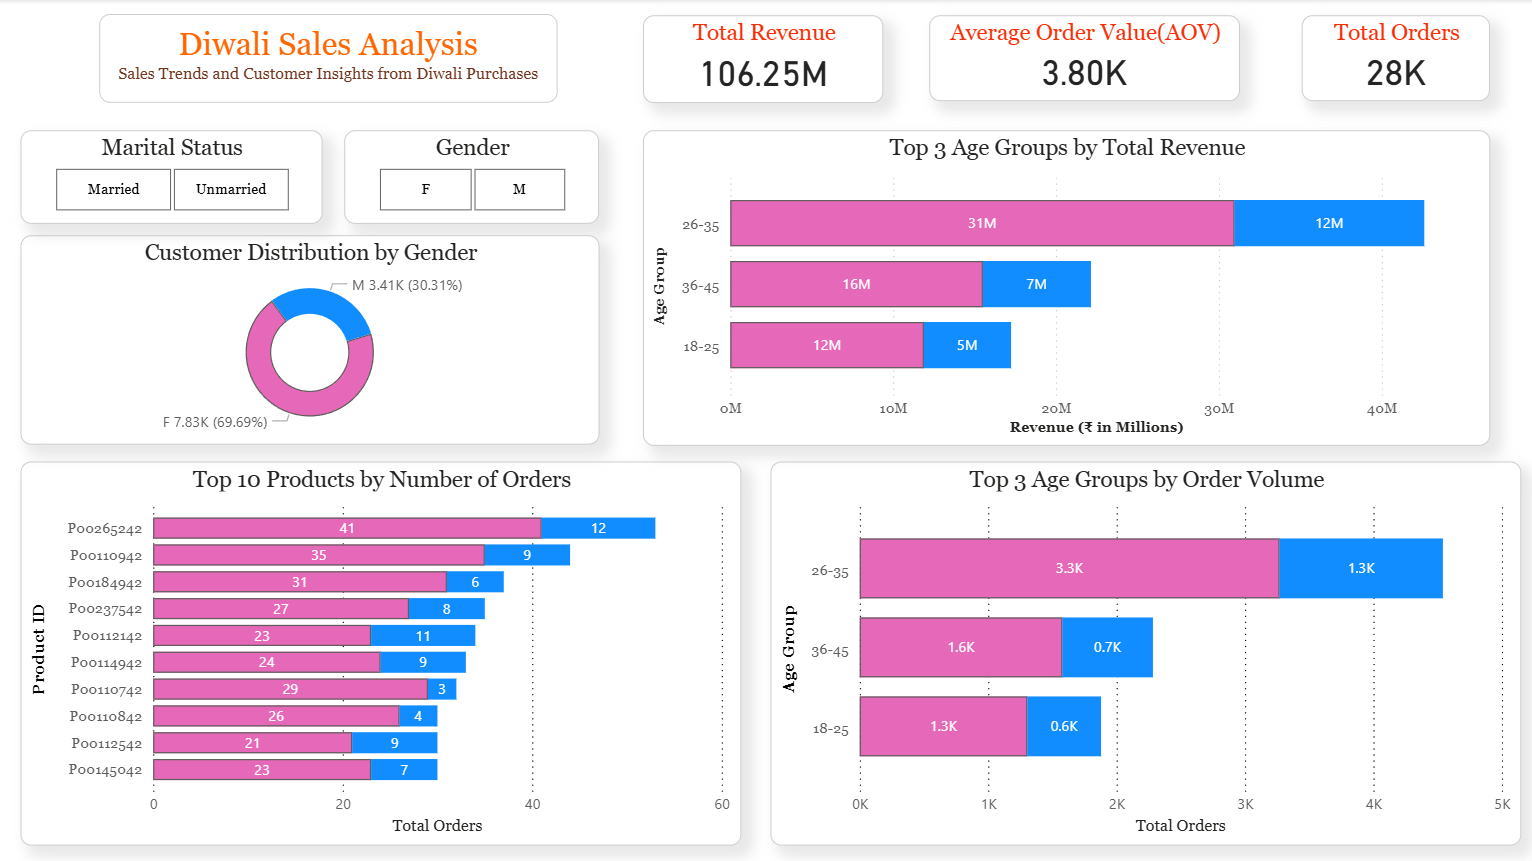

What the dashboard file says about the page in this screenshot:
{"tool":"powerbi","page":{"name":"Page 1","canvas":[1280,720],"ordinal":0},"visuals":[{"type":"textbox","box":[83.8,12.5,380,73.8],"z":0},{"type":"barChart","title":"Top 10 Products by Number of Orders","fields":{"Y":["Diwali Sales Data.Product_ID"],"Category":["Diwali Sales Data.Product_ID"],"Series":["Diwali Sales Data.Gender"]},"box":[18.8,383.8,597.5,318.8],"z":1000},{"type":"barChart","title":"Top 3 Age Groups by Order Volume","fields":{"Category":["Diwali Sales Data.Age Group"],"Y":["Diwali Sales Data.Age Group"],"Series":["Diwali Sales Data.Gender"]},"box":[640,383.8,622.5,318.8],"z":2000},{"type":"slicer","title":"Gender","fields":{"Values":["Diwali Sales Data.Gender"]},"box":[287.5,108.8,211.2,77.5],"z":3000},{"type":"donutChart","title":"Customer Distribution by Gender","fields":{"Y":["Diwali Sales Data.Gender"],"Category":["Diwali Sales Data.Gender"]},"box":[18.8,196.2,480,173.8],"z":4000},{"type":"slicer","title":"Marital Status","fields":{"Values":["Diwali Sales Data.Marital_Status"]},"box":[18.8,108.8,250,77.5],"z":5000},{"type":"card","title":"Total Revenue","fields":{"Values":["Diwali Sales Data.Total Revenue"]},"box":[535,13.5,199.5,72.8],"z":6000},{"type":"card","title":"Average Order Value(AOV)","fields":{"Values":["Diwali Sales Data.Average Order Value"]},"box":[772.2,13.5,257.4,71.4],"z":7000},{"type":"card","title":"Total Orders","fields":{"Values":["Diwali Sales Data.Total Orders"]},"box":[1081.2,13.8,156.2,71.2],"z":8000},{"type":"barChart","title":"Top 3 Age Groups by Total Revenue","fields":{"Category":["Diwali Sales Data.Age Group"],"Y":["Diwali Sales Data.Amount"],"Series":["Diwali Sales Data.Gender"]},"box":[535,109.2,702.1,261.4],"z":9000}]}

Visuals, with their boxes in screenshot pixels (x1, y1, x2, y2), scaled from the page's 1280x720 canvas onto the 1532x861 screenshot:
textbox: 100, 15, 555, 103
"Top 10 Products by Number of Orders" barChart: 23, 459, 738, 840
"Top 3 Age Groups by Order Volume" barChart: 766, 459, 1511, 840
"Gender" slicer: 344, 130, 597, 223
"Customer Distribution by Gender" donutChart: 23, 235, 597, 442
"Marital Status" slicer: 23, 130, 322, 223
"Total Revenue" card: 640, 16, 879, 103
"Average Order Value(AOV)" card: 924, 16, 1232, 102
"Total Orders" card: 1294, 17, 1481, 102
"Top 3 Age Groups by Total Revenue" barChart: 640, 131, 1481, 443
